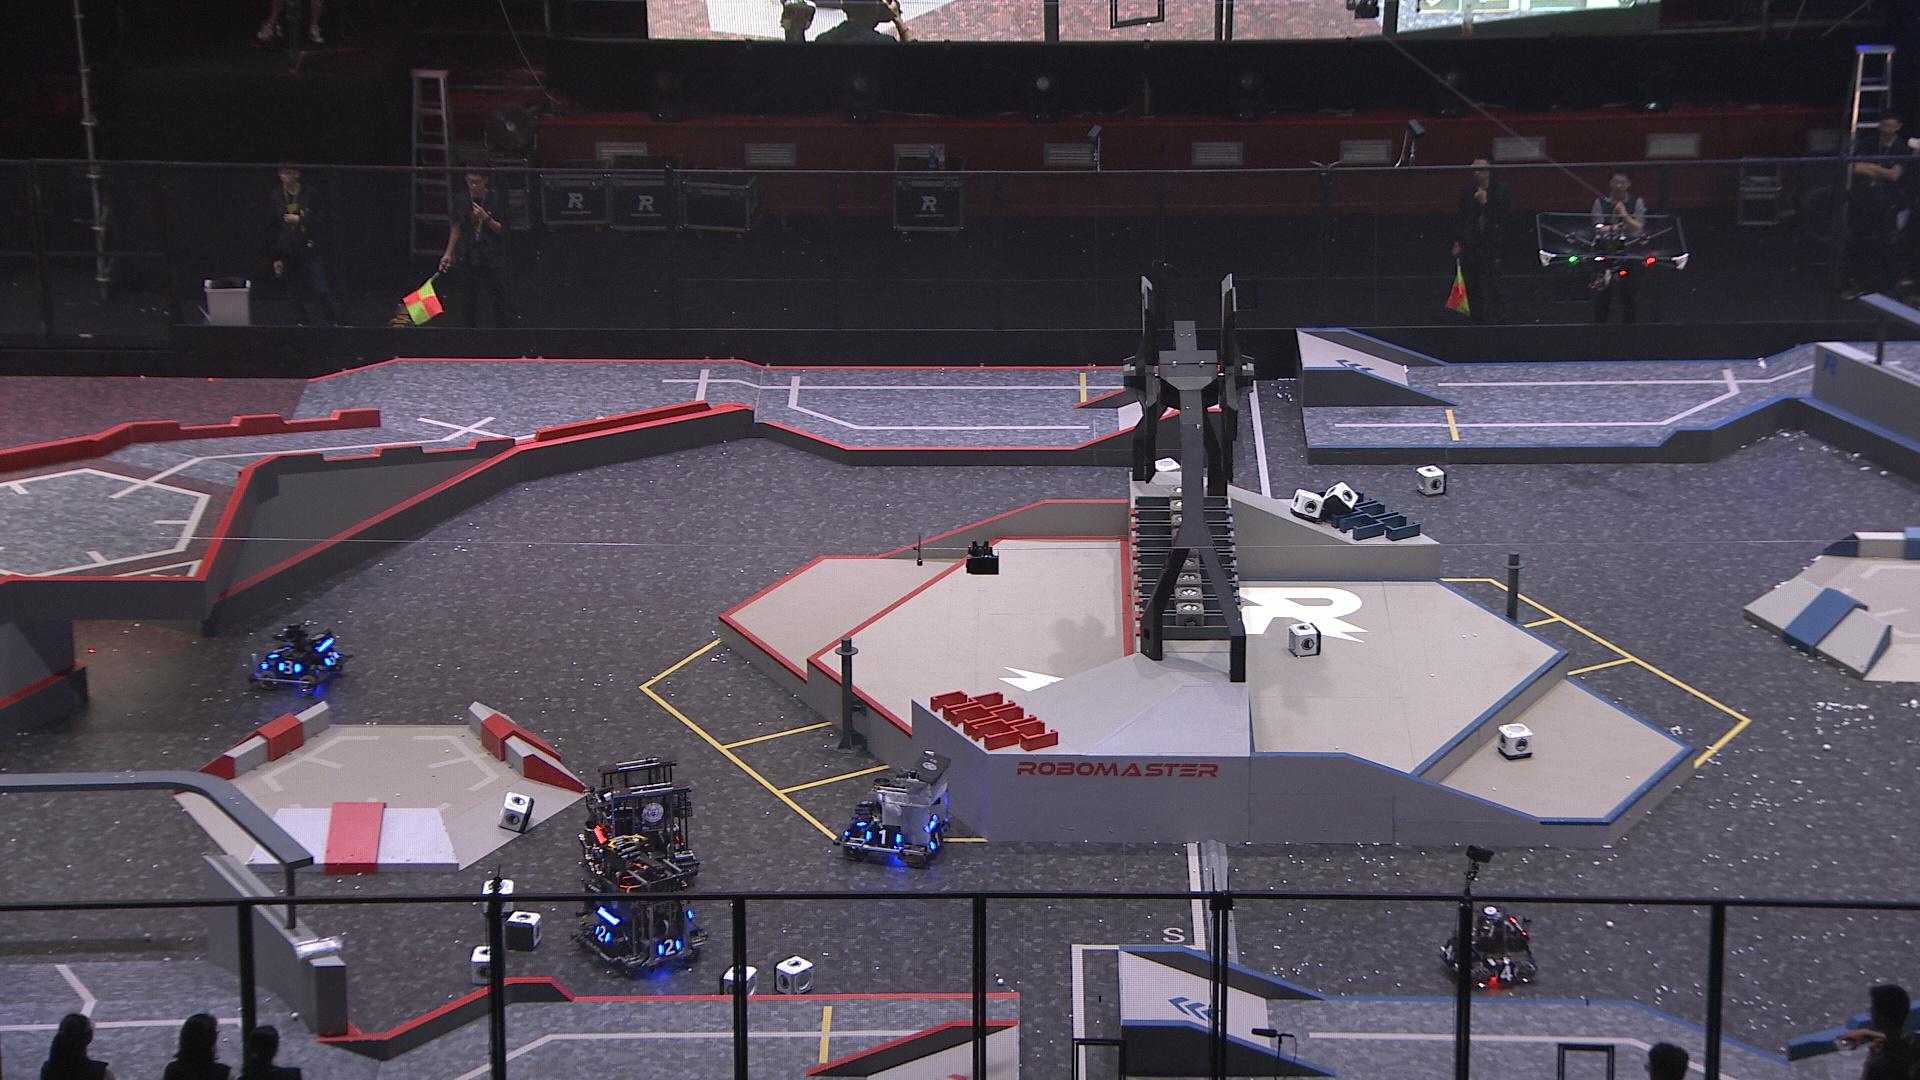armor: (864, 823, 903, 847), (1490, 963, 1519, 986), (927, 822, 949, 851), (852, 808, 877, 832), (264, 640, 291, 659), (654, 939, 683, 957), (593, 922, 613, 945), (276, 659, 301, 676), (1441, 940, 1457, 964), (324, 647, 340, 669)
car: (574, 833, 711, 975), (580, 756, 707, 887), (835, 749, 953, 865), (1433, 906, 1538, 992), (243, 615, 353, 694)
